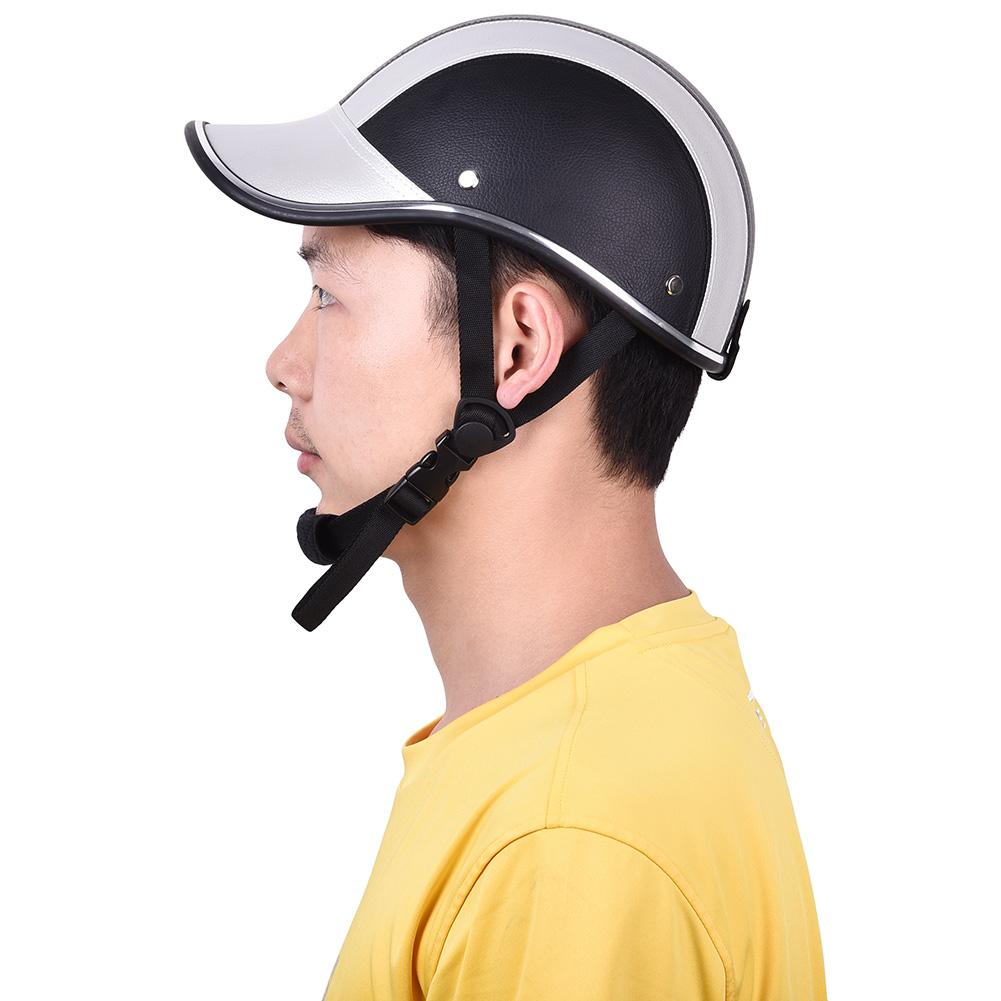Helmet: (160, 6, 782, 390)
